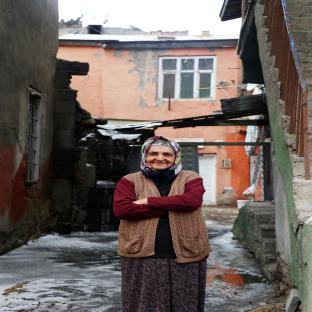Human: (114, 135, 211, 312)
